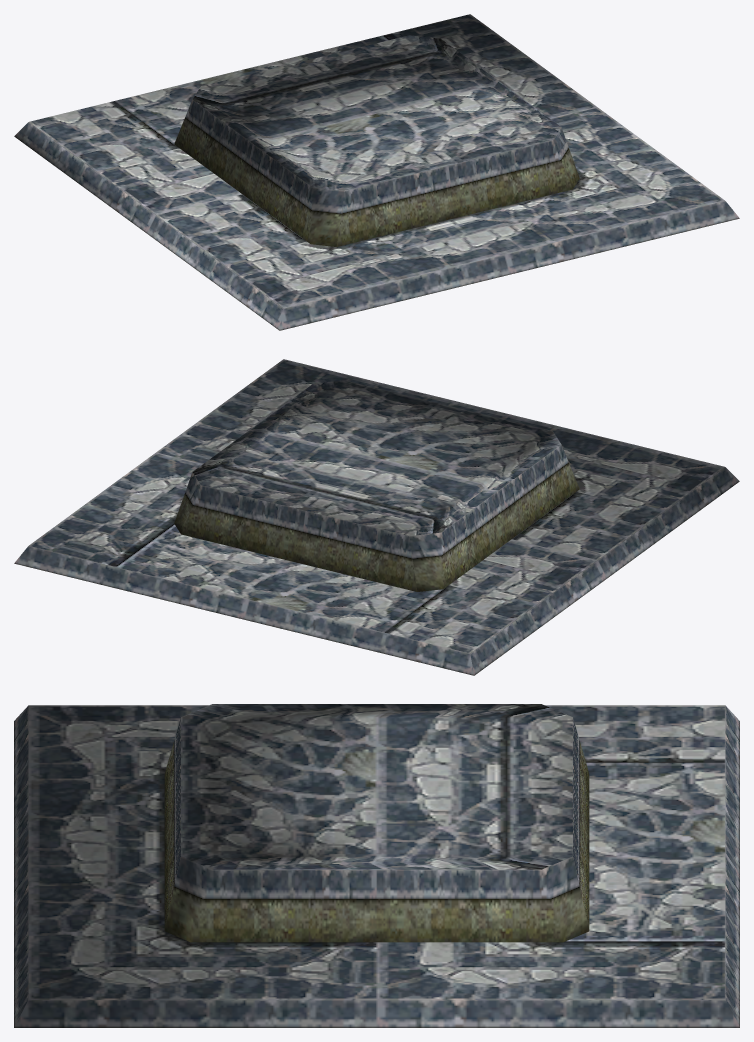
The model's file is s_lv3bota.dae.
3 renders of one model, top to bottom at view 1: azimuth 30°, elevation 25°; view 2: azimuth 150°, elevation 25°; view 3: azimuth 270°, elevation 25°, orthographic. The views are drawn at different scales.
Parts seen in each view (by area): view 1: Shape 0; view 2: Shape 0; view 3: Shape 0.
Part boxes in pixels (x1,y1,x2,y2): Shape 0: (14, 14, 739, 330); Shape 0: (14, 359, 739, 675); Shape 0: (14, 704, 739, 1027).
Bounding box in the file's own units: 150 × 20 × 150.
1 material, 1 textured.
